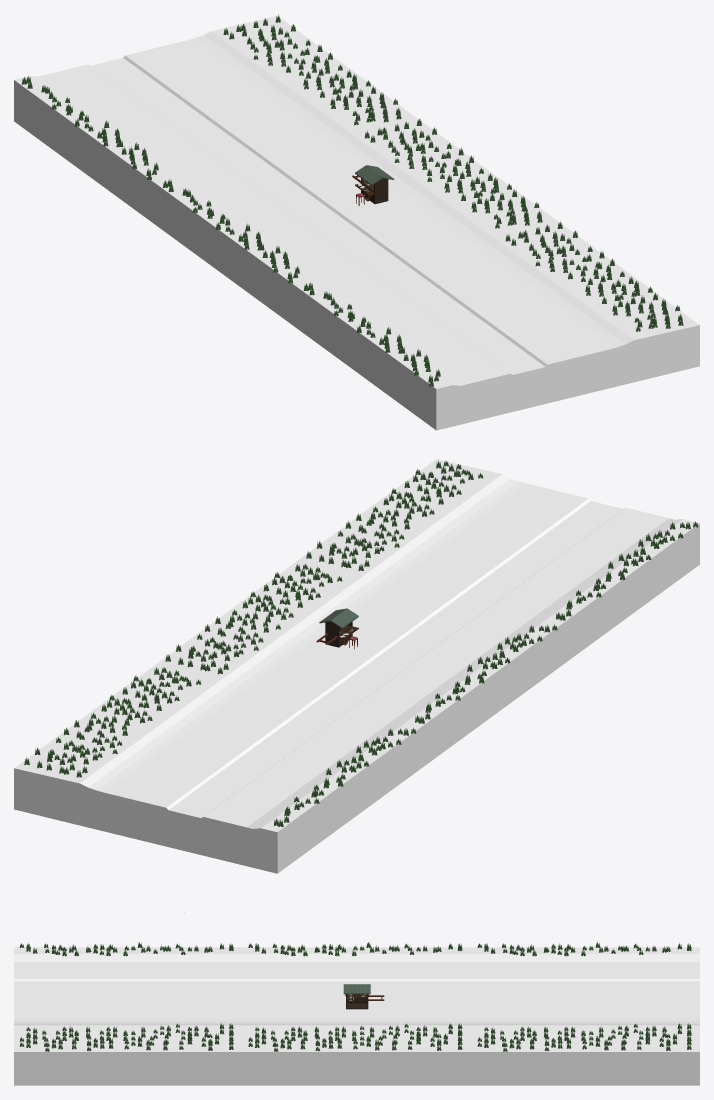
3 renders of one model, top to bottom at view 1: azimuth 30°, elevation 25°; view 2: azimuth 150°, elevation 25°; view 3: azimuth 270°, elevation 25°, orthographic. The views are drawn at different scales.
Visible parts, largest first — view 1: Enviroment.001, Enviroment.002, Enviroment; view 2: Enviroment.002, Enviroment.001, Enviroment; view 3: Enviroment.001, Enviroment.002, Enviroment, Table, Cube.002.
Part boxes in pixels (<box>): Enviroment.001: <box>295,222,699,430</box>; Enviroment.002: <box>14,16,417,223</box>; Enviroment: <box>154,119,558,327</box>; Enviroment.002: <box>14,665,418,912</box>; Enviroment.001: <box>296,459,699,667</box>; Enviroment: <box>155,562,558,770</box>; Enviroment.001: <box>14,947,242,1085</box>; Enviroment.002: <box>471,947,699,1085</box>; Enviroment: <box>242,947,471,1085</box>; Table: <box>346,994,384,1009</box>; Cube.002: <box>343,984,370,994</box>.
Size of the model in its own units: 14.37 by 7.01 by 39.42.
Materials: 492 (13 with a texture image).
